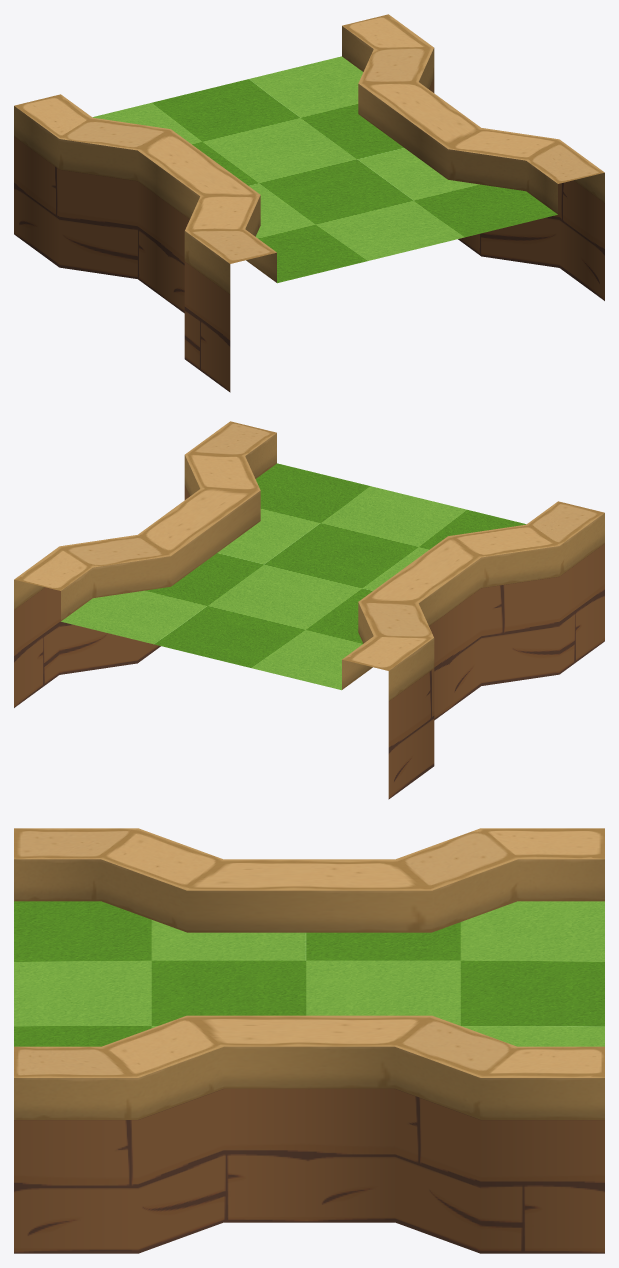
File: tile21.FBX
3 views of the same model, one above another, from view 1: azimuth 30°, elevation 25°; view 2: azimuth 150°, elevation 25°; view 3: azimuth 270°, elevation 25° (orthographic). The views are drawn at different scales.
Parts seen in each view (by area): view 1: tile21_walls, tile21_floor; view 2: tile21_walls, tile21_floor; view 3: tile21_walls, tile21_floor.
Boxes of the visible parts, left/top/right/bottom form: tile21_walls: left=14, top=14, right=604, bottom=392; tile21_floor: left=92, top=56, right=557, bottom=283; tile21_walls: left=14, top=421, right=604, bottom=799; tile21_floor: left=61, top=463, right=526, bottom=690; tile21_walls: left=14, top=828, right=604, bottom=1253; tile21_floor: left=14, top=901, right=604, bottom=1046.
Size of the model in its own units: 1280 by 420 by 1280.
